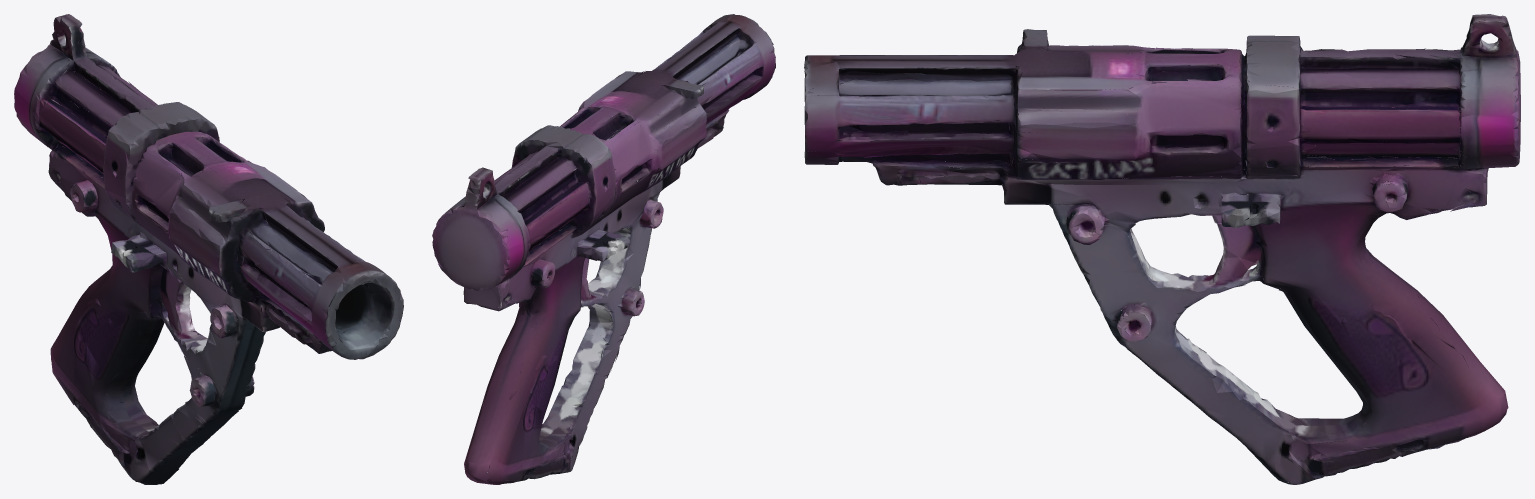
File: timeattack_gatling.glb
The picture shows the model from 3 angles, left to right: view 1: azimuth 30°, elevation 25°; view 2: azimuth 150°, elevation 25°; view 3: azimuth 270°, elevation 25°; orthographic projection. The views are drawn at different scales.
Visible parts, largest first — view 1: Gatling_Time_Attack_x; view 2: Gatling_Time_Attack_x; view 3: Gatling_Time_Attack_x.
Part boxes in pixels (x1,y1,x2,y2): Gatling_Time_Attack_x: (14,14,403,484); Gatling_Time_Attack_x: (432,14,775,484); Gatling_Time_Attack_x: (804,14,1520,484).
Bounding box in the file's own units: 0.1593 × 0.5688 × 0.8003.
1 material, 1 textured.
